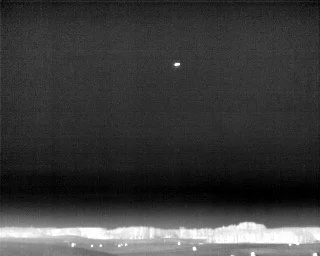AIRPLANE: (172, 59, 182, 69)
